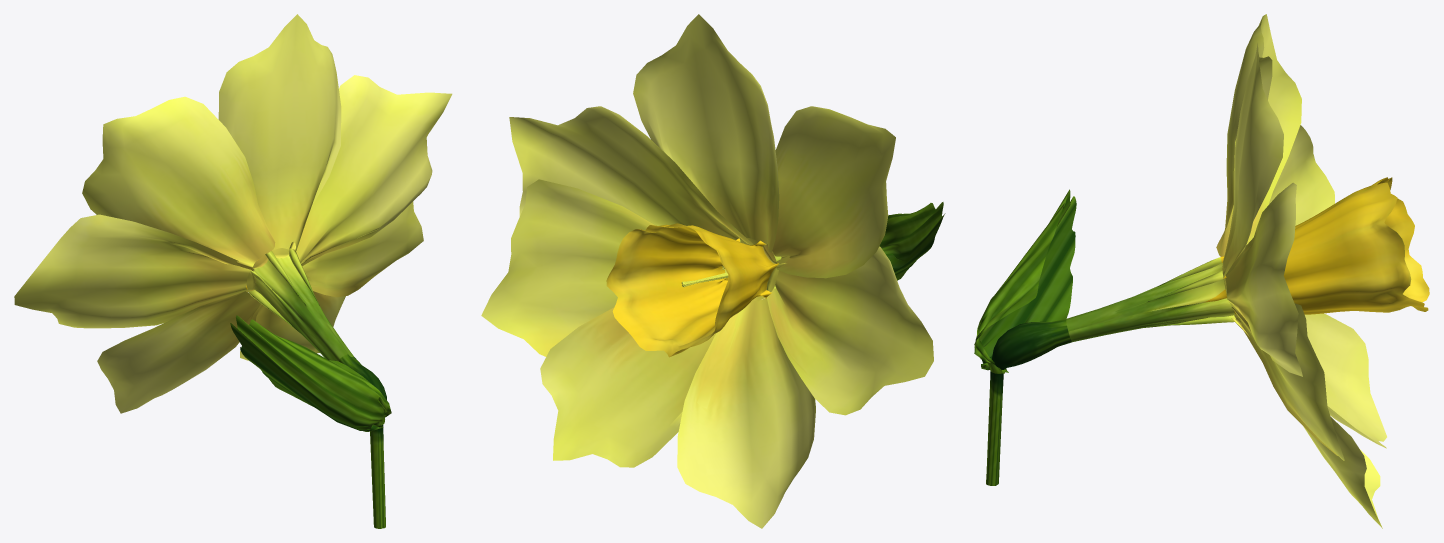
3 renders of one model, left to right at view 1: azimuth 30°, elevation 25°; view 2: azimuth 150°, elevation 25°; view 3: azimuth 270°, elevation 25°, orthographic. The views are drawn at different scales.
Parts seen in each view (by area): view 1: 148f4bc8; view 2: 148f4bc8; view 3: 148f4bc8.
Part boxes in pixels (x1=…): 148f4bc8: x1=14, y1=14, x2=452, y2=528; 148f4bc8: x1=481, y1=14, x2=945, y2=528; 148f4bc8: x1=974, y1=14, x2=1429, y2=528.
Size of the model in its own units: 0.0902 by 0.0855 by 0.0766.
Materials: 1 (1 with a texture image).
